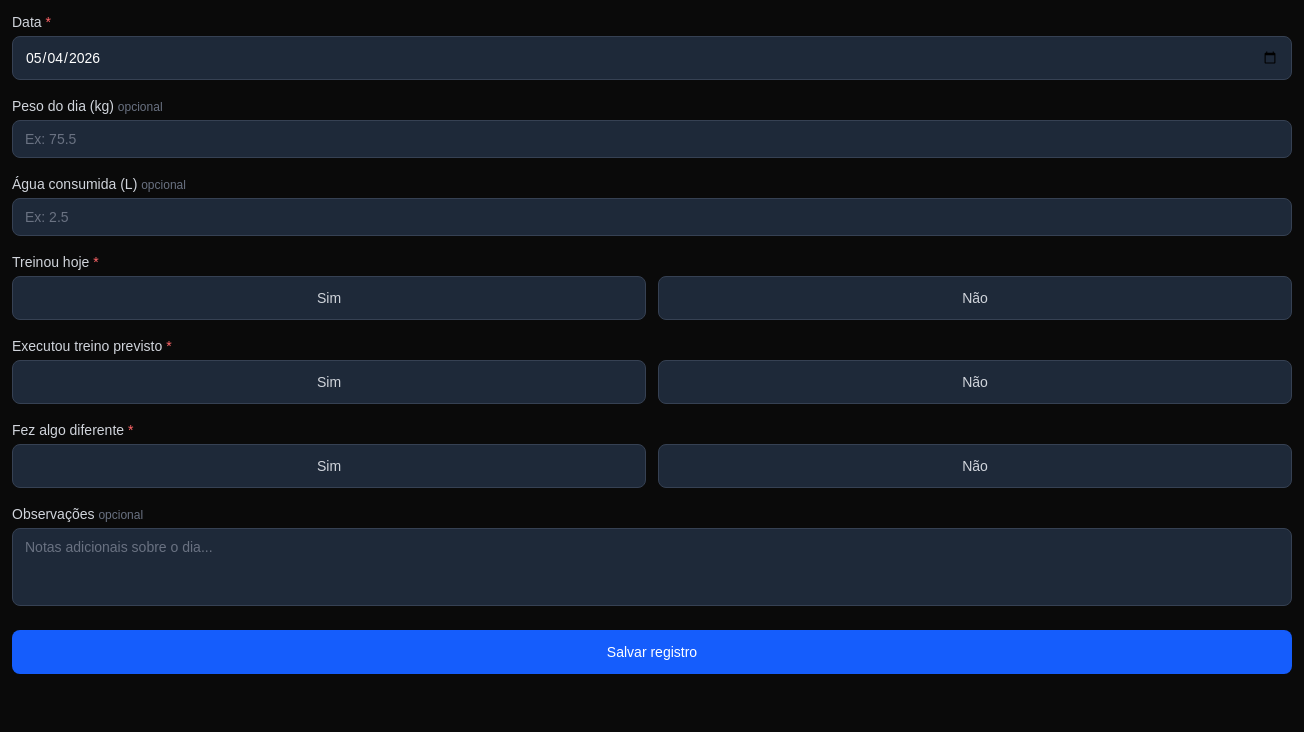
Scenario: DailyLogForm › hides the description field when "Fez algo diferente" is switched back to Não
What coordinates should you click on to do the following:
click the button "Sim" below "Fez algo diferente"
I would click on:
 (329, 466)
Its box is x1=12 y1=444 x2=646 y2=488.
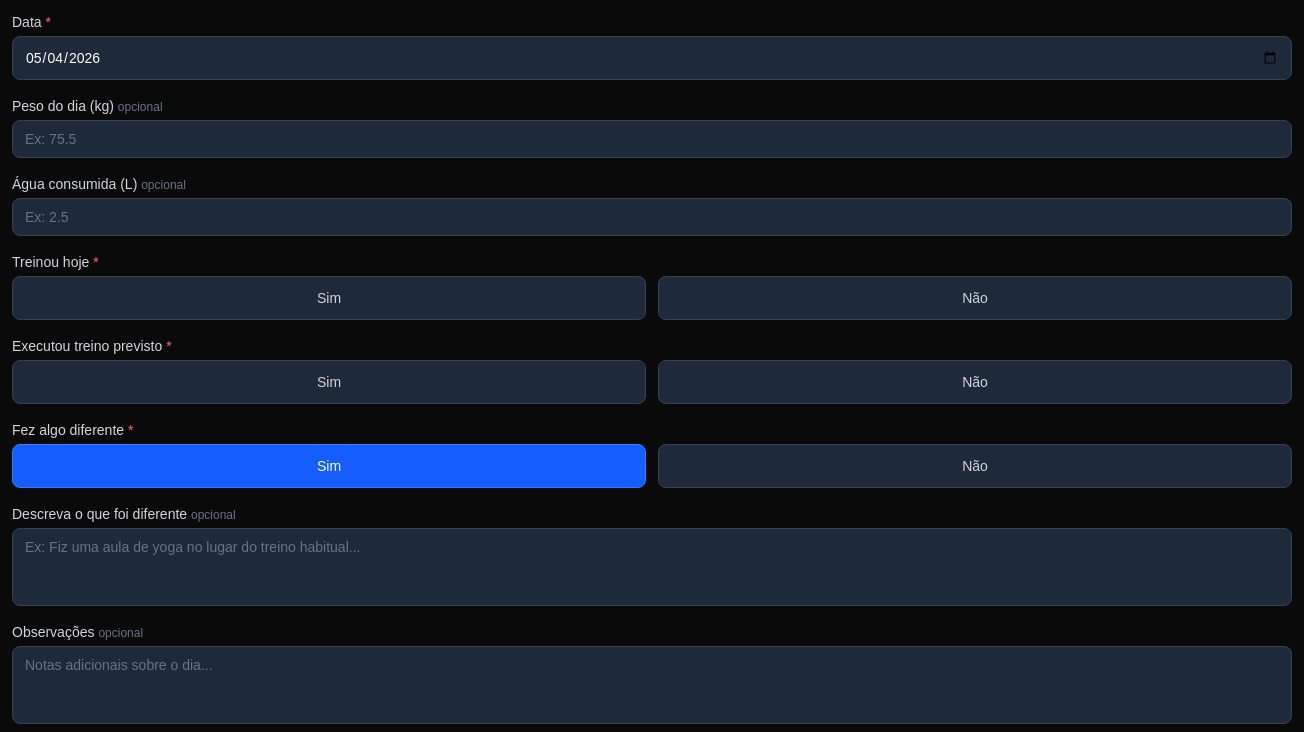
Check: the text box labelled "Descreva o que foi diferente opcional" is shown, box x1=12 y1=528 x2=1292 y2=606
What coordinates should you click on to do the following:
click the 3rd button "Não"
I would click on:
 (975, 466)
Its box is x1=658 y1=444 x2=1292 y2=488.
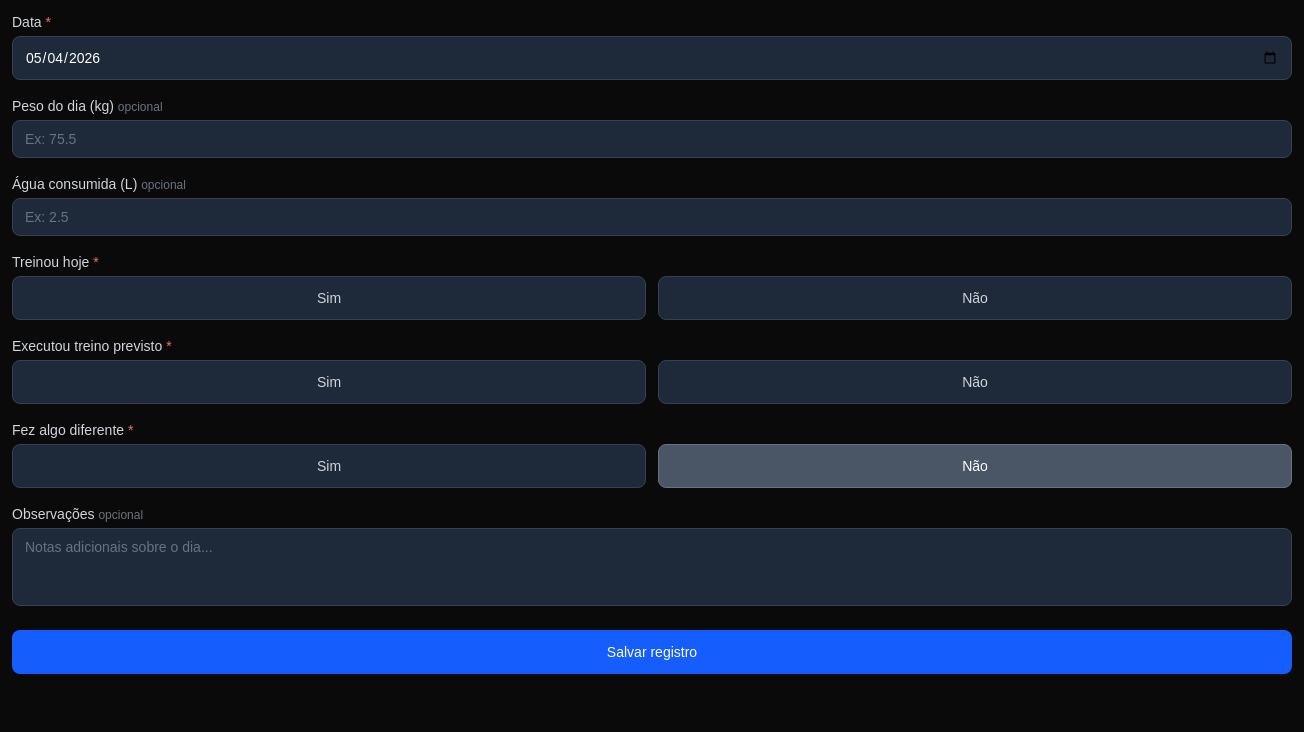
Check: the label labelled "Descreva o que foi diferente" is gone
